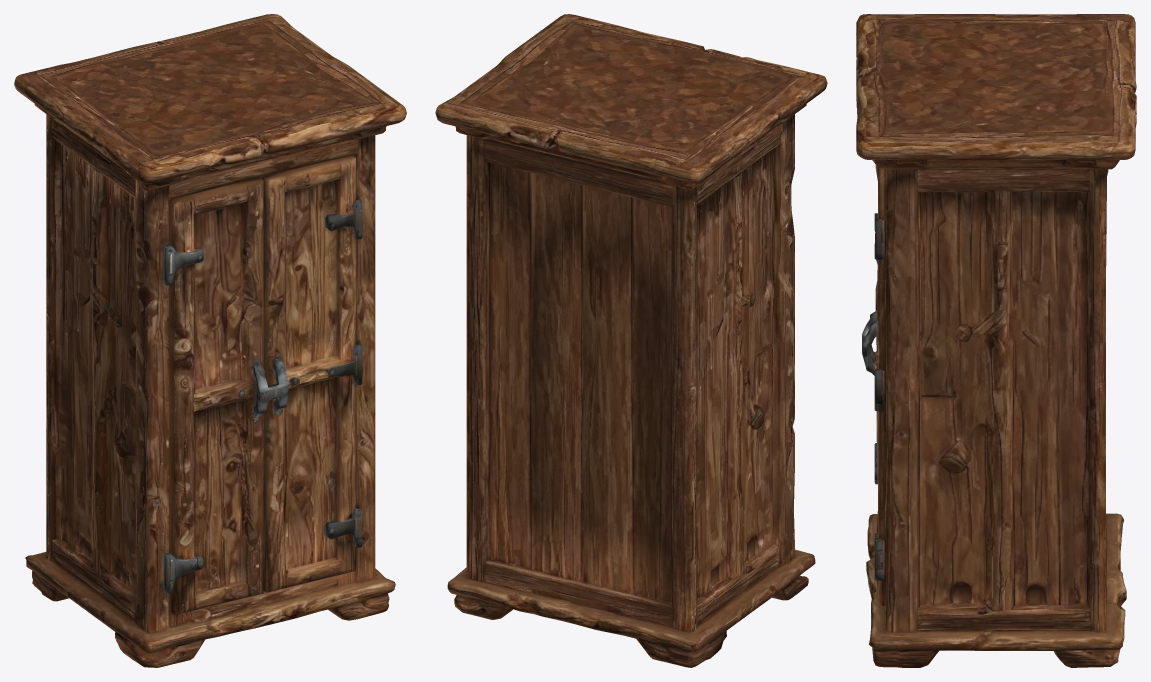
The model's file is armoire.glb.
3 renders of one model, left to right at view 1: azimuth 30°, elevation 25°; view 2: azimuth 150°, elevation 25°; view 3: azimuth 270°, elevation 25°, orthographic. The views are drawn at different scales.
Parts seen in each view (by area): view 1: tripo_node_b316b730-edd2-4cd1-a5fe-a52a5e27a9b6; view 2: tripo_node_b316b730-edd2-4cd1-a5fe-a52a5e27a9b6; view 3: tripo_node_b316b730-edd2-4cd1-a5fe-a52a5e27a9b6.
Boxes of the visible parts, x1,y1,x2,y2 form: tripo_node_b316b730-edd2-4cd1-a5fe-a52a5e27a9b6: (14, 14, 406, 667); tripo_node_b316b730-edd2-4cd1-a5fe-a52a5e27a9b6: (435, 14, 827, 667); tripo_node_b316b730-edd2-4cd1-a5fe-a52a5e27a9b6: (856, 14, 1136, 667).
Bounding box in the file's own units: 0.5333 × 0.9749 × 0.4683.
1 material, 1 textured.
